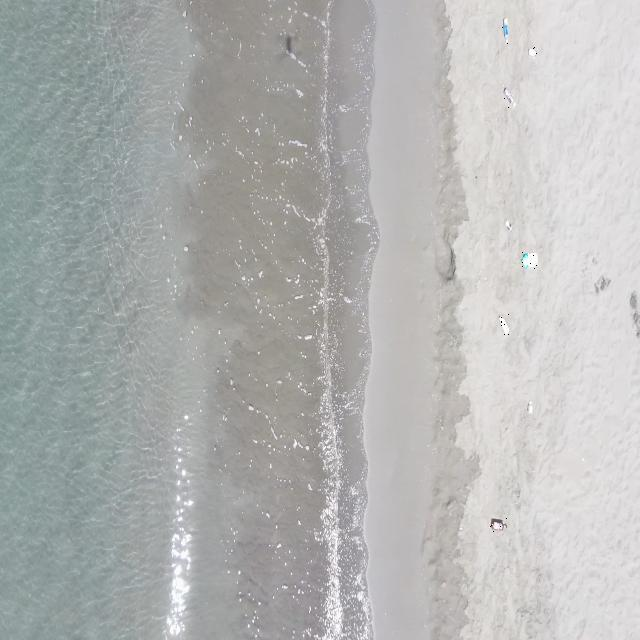Garbage: (504, 87, 515, 105), (522, 252, 535, 267), (489, 518, 506, 529), (499, 316, 508, 335), (502, 19, 508, 43), (527, 45, 535, 55), (504, 220, 511, 230), (527, 400, 532, 413)
